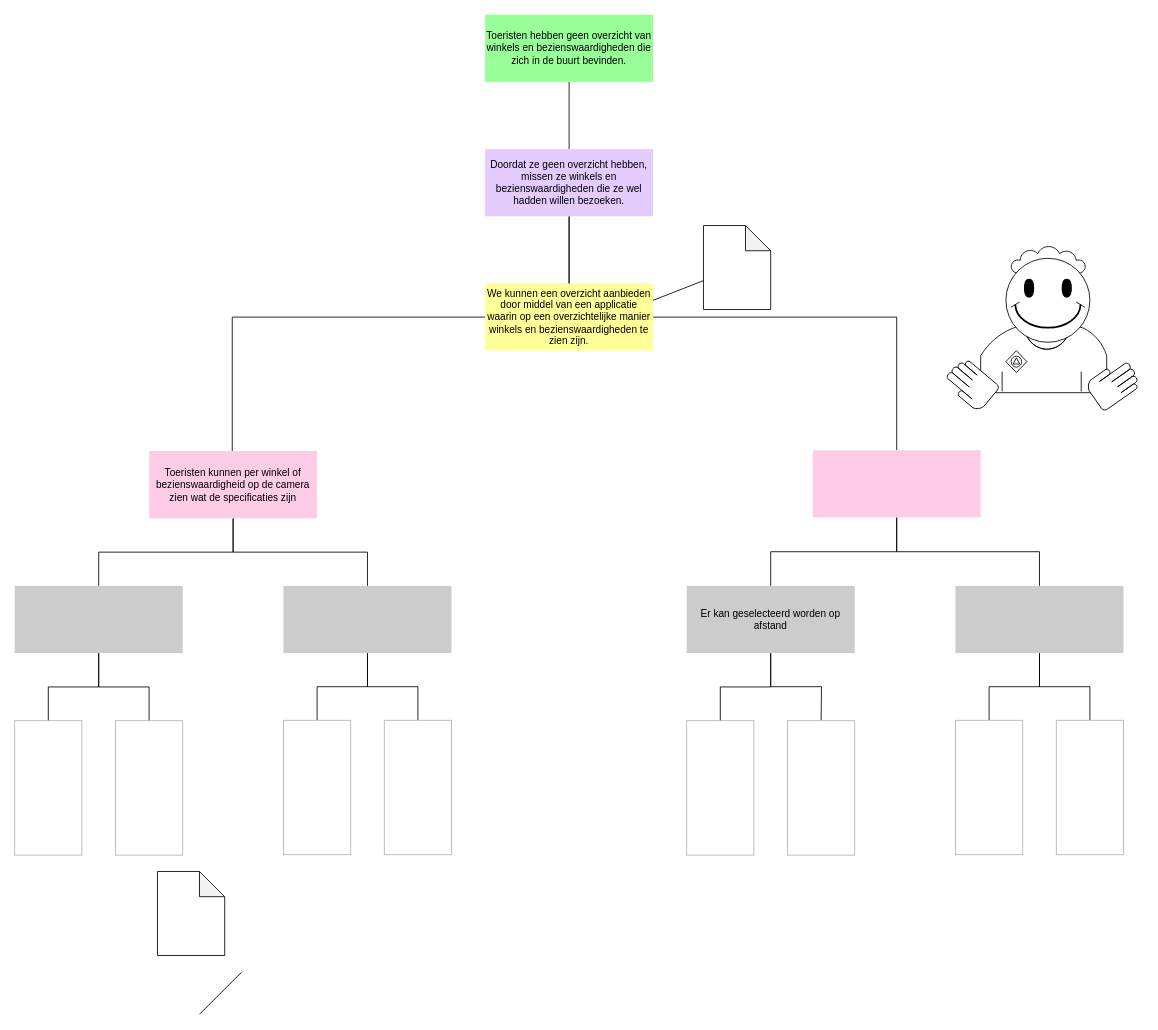
The diagram is 1158 pixels wide and 1030 high, and some of its shapes have lost their labels. Here are the shapes that lost their labels. From the top down, the box of each, then its label:
(703, 225, 771, 310): Mogen we hier de applicatie noemen?
(812, 450, 980, 517): Toeristen kunnen op de camera zien in welke richting de winkels zich bevinden.
